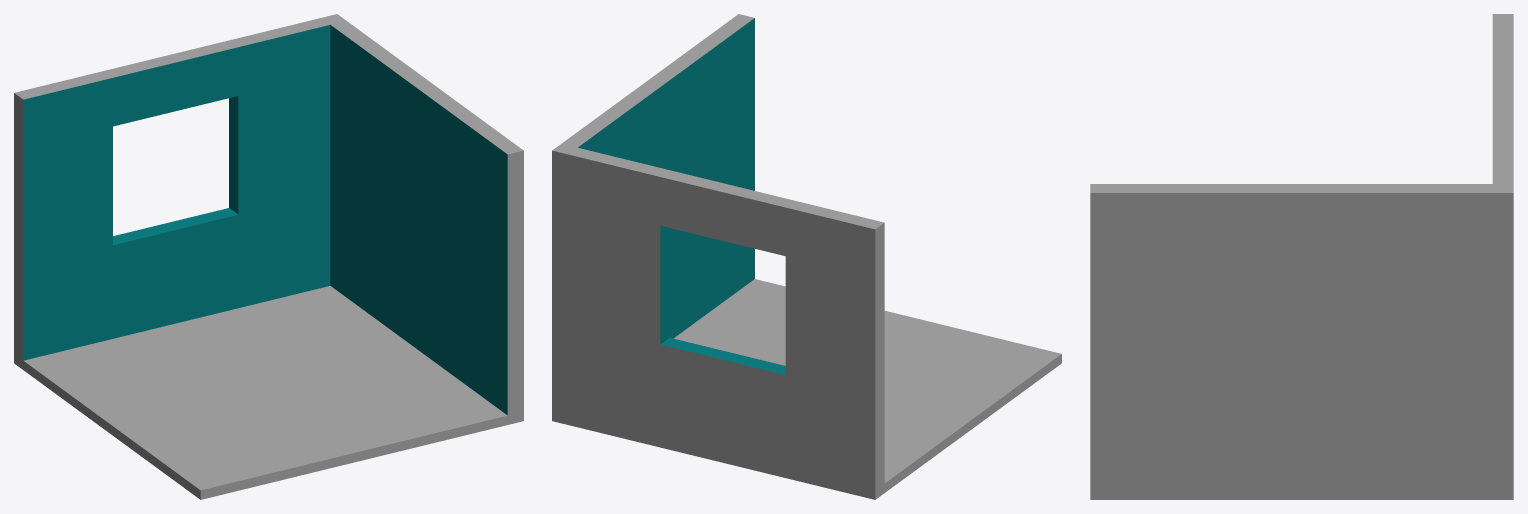
File: Wall_4.fbx
3 views of the same model, side by side, from view 1: azimuth 30°, elevation 25°; view 2: azimuth 150°, elevation 25°; view 3: azimuth 270°, elevation 25° (orthographic). The views are drawn at different scales.
Visible parts, largest first — view 1: Wall_4; view 2: Wall_4; view 3: Wall_4.
Boxes of the visible parts, x1,y1,x2,y2 form: Wall_4: [14, 14, 523, 499]; Wall_4: [552, 14, 1061, 499]; Wall_4: [1090, 14, 1513, 499].
Size of the model in its own units: 3.8 by 3.04 by 3.8.
